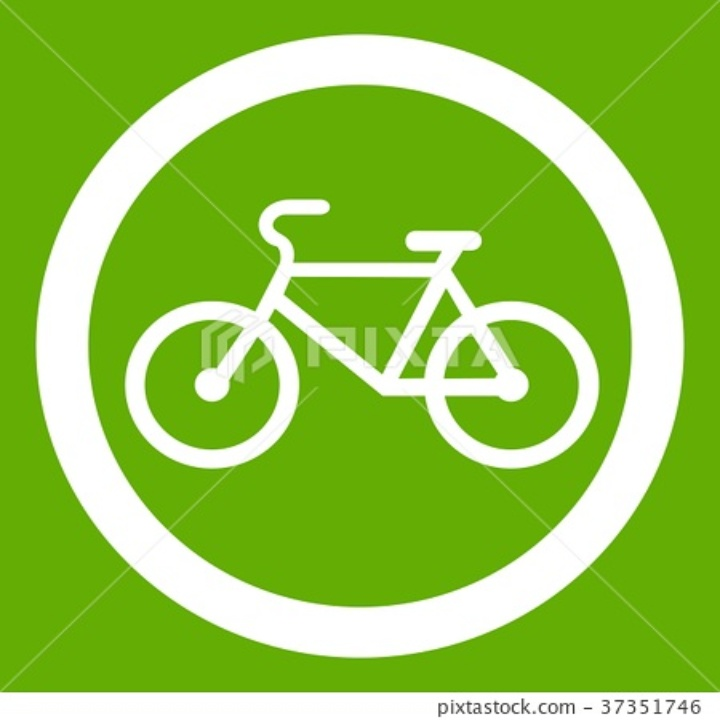bicycle: (117, 93, 605, 581)
